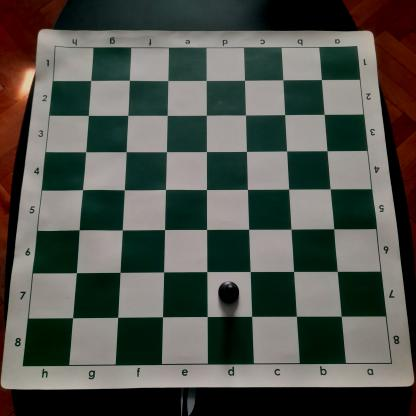black-pawn: (217, 279, 241, 305)
